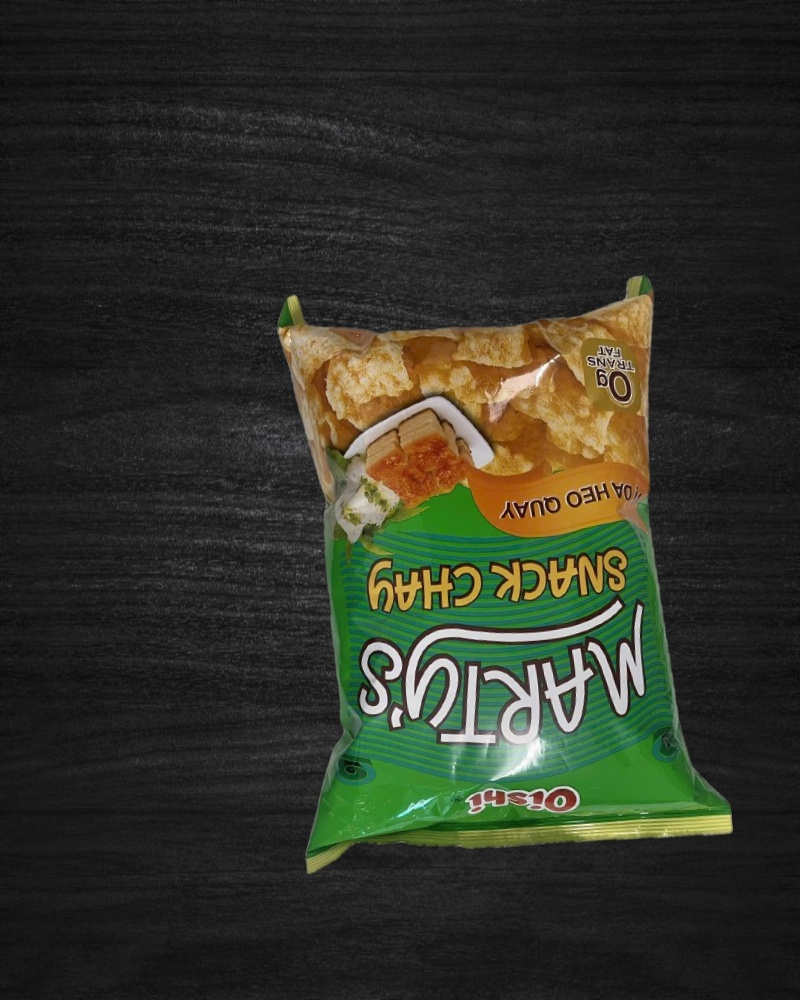Snack chay: (277, 262, 733, 874)
